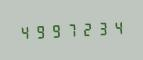four: (17, 22, 31, 42), (107, 18, 121, 37)
nine: (32, 22, 46, 41), (47, 21, 61, 40)
seven: (62, 20, 76, 39)
three: (92, 18, 106, 38)
two: (77, 19, 91, 38)
